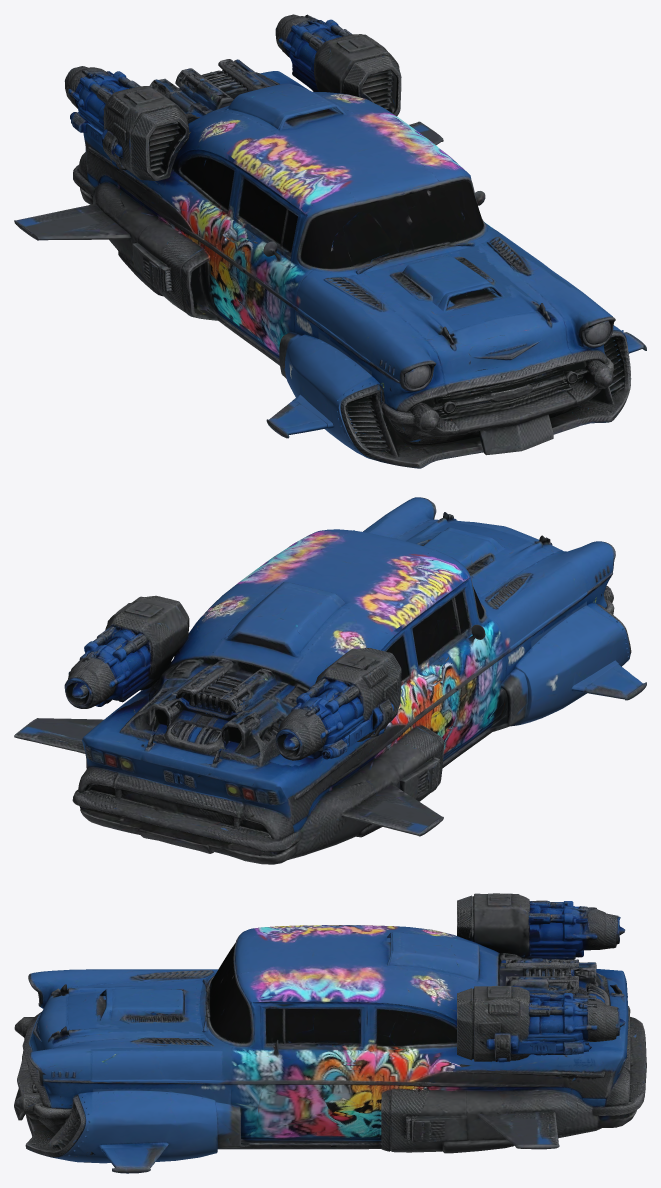
The model's file is graffiti_jet_cruiser_browser.v2.glb.
3 views of the same model, one above another, from view 1: azimuth 30°, elevation 25°; view 2: azimuth 150°, elevation 25°; view 3: azimuth 270°, elevation 25° (orthographic). The views are drawn at different scales.
Parts seen in each view (by area): view 1: graffiti_jet_cruiser; view 2: graffiti_jet_cruiser; view 3: graffiti_jet_cruiser.
Boxes of the visible parts, bbox=[...] form: graffiti_jet_cruiser: bbox=[14, 14, 646, 468]; graffiti_jet_cruiser: bbox=[14, 497, 646, 864]; graffiti_jet_cruiser: bbox=[14, 893, 646, 1173].
Size of the model in its own units: 7.14 by 3.21 by 10.78.
1 material, 1 textured.
